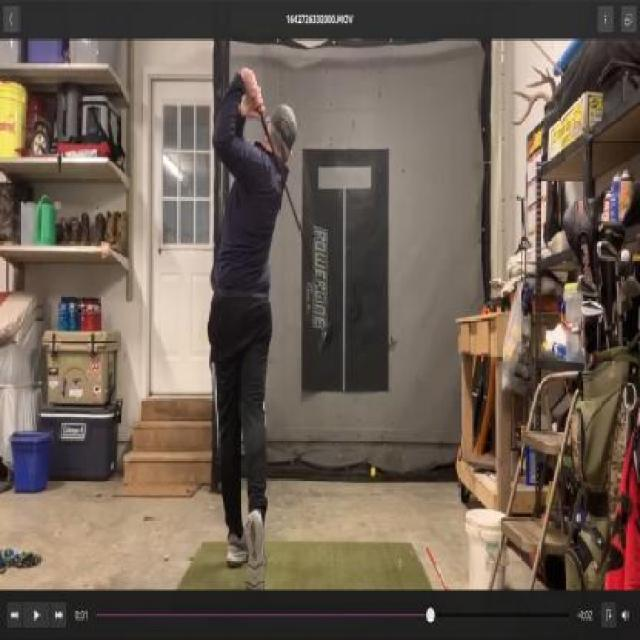club head: (316, 316, 332, 356)
